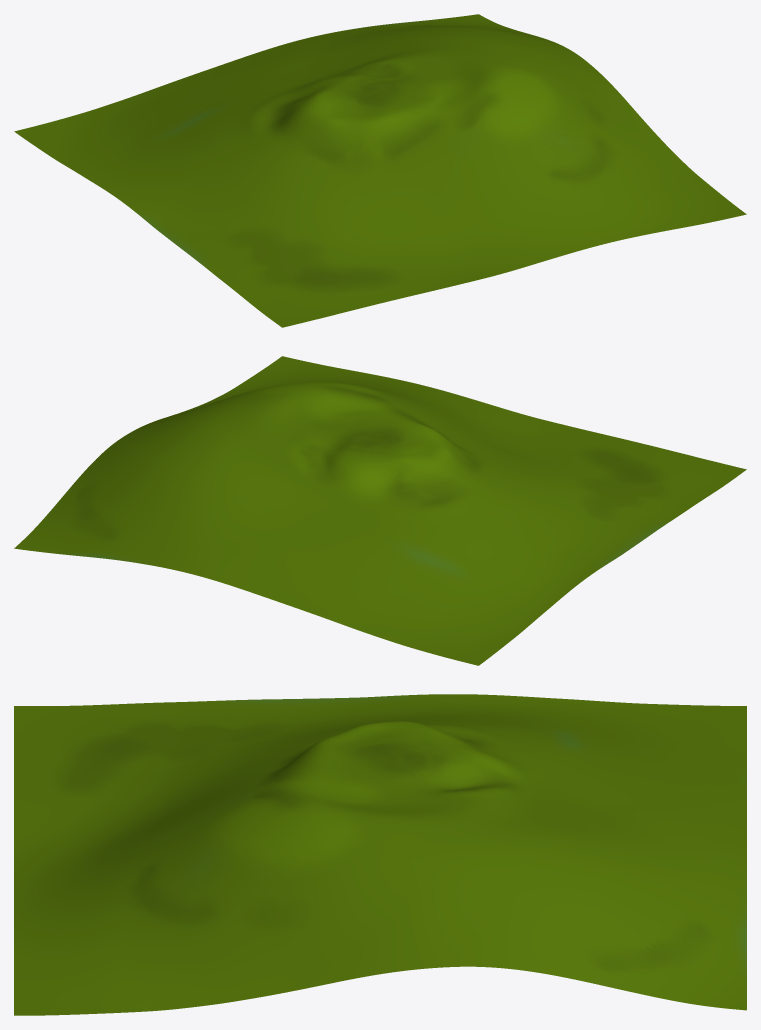
The model's file is Terrain0-0.fbx.
3 views of the same model, one above another, from view 1: azimuth 30°, elevation 25°; view 2: azimuth 150°, elevation 25°; view 3: azimuth 270°, elevation 25° (orthographic). The views are drawn at different scales.
Visible parts, largest first — view 1: Terrain1; view 2: Terrain1; view 3: Terrain1.
Part boxes in pixels (x1,y1,x2,y2): Terrain1: (14,14,746,327); Terrain1: (14,356,746,665); Terrain1: (14,694,746,1015).
Bounding box in the file's own units: 6400 × 1099 × 6400.
